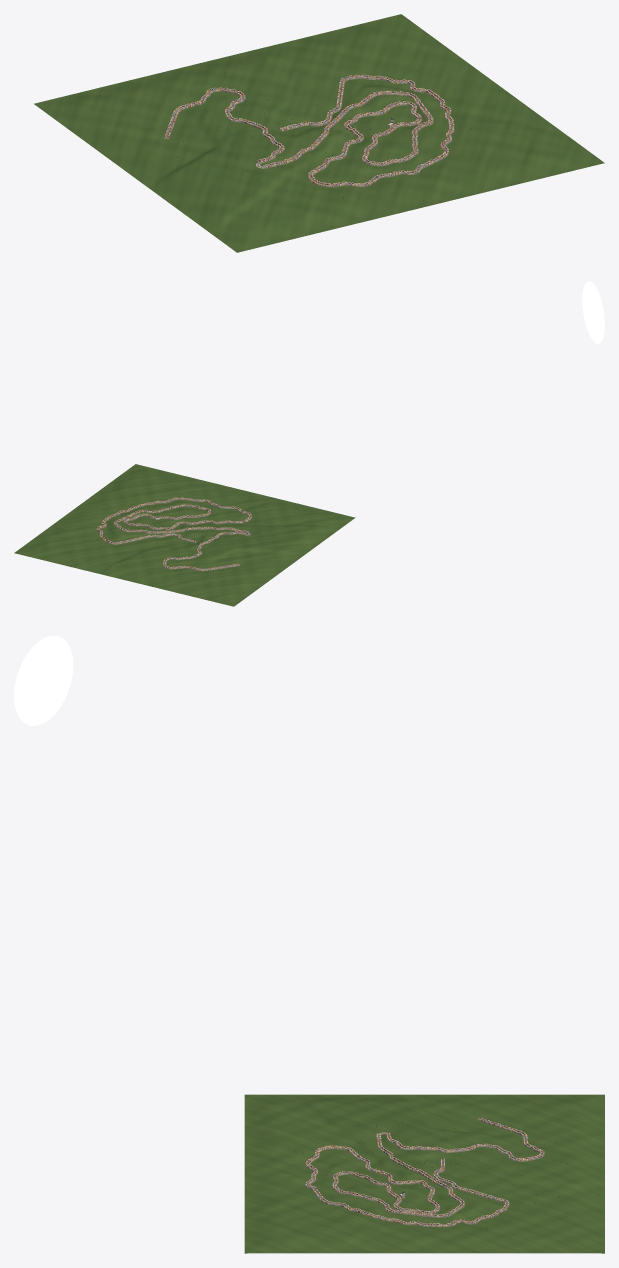
Rendered from oldtown.glb.
3 views of the same model, one above another, from view 1: azimuth 30°, elevation 25°; view 2: azimuth 150°, elevation 25°; view 3: azimuth 270°, elevation 25° (orthographic). The views are drawn at different scales.
Visible parts, largest first — view 1: Land_001, Land_004, Land_003, Land_014, Land_012, Land_002, Land_013, Land_015, Land_000, Land_008, Land_011, Land_005 (+4 smaller); view 2: Land_001, Land_014, Land_004, Land_003, Land_012, Land_002, Land_013, Land_015, Sun, Land_000, Land_008, Land_011 (+1 smaller); view 3: Land_001, Land_004, Land_003, Land_014, Land_012, Land_002, Land_013, Sun, Land_015, Land_000, Land_011, Land_008 (+2 smaller).
Part boxes in pixels (x1=…): Land_001: x1=262, y1=14, x2=475, y2=95; Land_004: x1=212, y1=167, x2=424, y2=252; Land_003: x1=401, y1=130, x2=604, y2=206; Land_014: x1=34, y1=60, x2=222, y2=136; Land_012: x1=151, y1=120, x2=296, y2=233; Land_002: x1=404, y1=68, x2=579, y2=144; Land_013: x1=200, y1=48, x2=292, y2=139; Land_015: x1=70, y1=129, x2=217, y2=189; Land_000: x1=271, y1=92, x2=355, y2=136; Land_008: x1=346, y1=139, x2=431, y2=171; Land_011: x1=266, y1=126, x2=342, y2=180; Land_005: x1=290, y1=130, x2=370, y2=176; Land_001: x1=14, y1=520, x2=146, y2=573; Land_014: x1=127, y1=555, x2=254, y2=606; Land_004: x1=204, y1=490, x2=355, y2=528; Land_003: x1=121, y1=464, x2=242, y2=507; Land_012: x1=188, y1=525, x2=339, y2=555; Land_002: x1=59, y1=475, x2=149, y2=527; Land_013: x1=97, y1=546, x2=229, y2=580; Land_015: x1=225, y1=549, x2=303, y2=590; Sun: x1=582, y1=281, x2=604, y2=343; Land_000: x1=130, y1=533, x2=203, y2=550; Land_008: x1=165, y1=502, x2=225, y2=520; Land_011: x1=178, y1=525, x2=260, y2=535; Land_001: x1=459, y1=1178, x2=604, y2=1253; Land_004: x1=244, y1=1094, x2=360, y2=1182; Land_003: x1=244, y1=1174, x2=372, y2=1253; Land_014: x1=463, y1=1094, x2=604, y2=1172; Land_012: x1=289, y1=1094, x2=462, y2=1158; Land_002: x1=290, y1=1208, x2=473, y2=1253; Land_013: x1=449, y1=1131, x2=604, y2=1193; Sun: x1=14, y1=635, x2=73, y2=725; Land_015: x1=397, y1=1094, x2=540, y2=1132; Land_000: x1=421, y1=1154, x2=504, y2=1198; Land_011: x1=348, y1=1133, x2=428, y2=1177; Land_008: x1=322, y1=1163, x2=377, y2=1201.
Size of what is drawn, in the model's own units: 6268 by 3286 by 5272.
